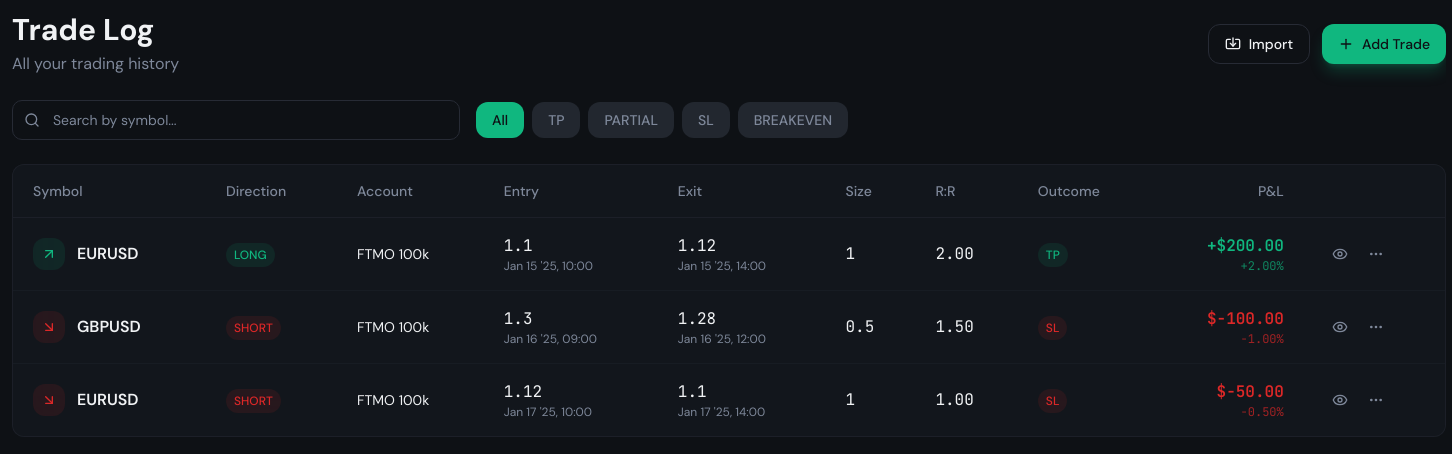
Test case: TradesView - Filtering with useMemo › filters trades by search query
Check: the text "GBPUSD" is shown, box [77,315,141,339]
# Type in search box
Step 1. Type "GBP" into the field with placeholder "Search by symbol..." → (236, 120), box [12,100,460,140]
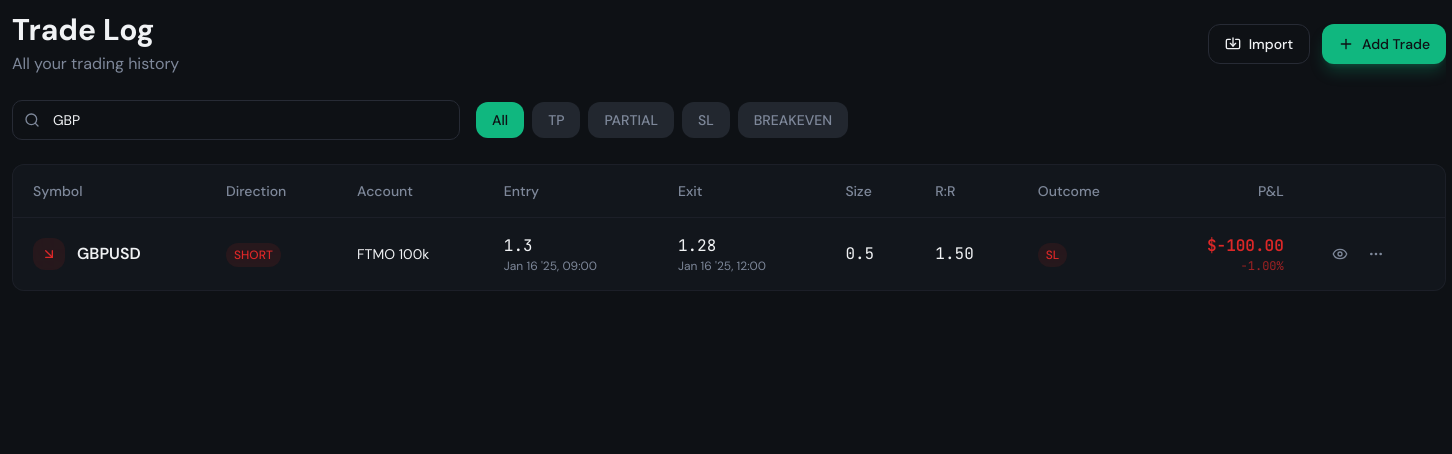
Check: the text "GBPUSD" is shown, box [77,242,141,266]
Check: the text "EURUSD" is not shown
